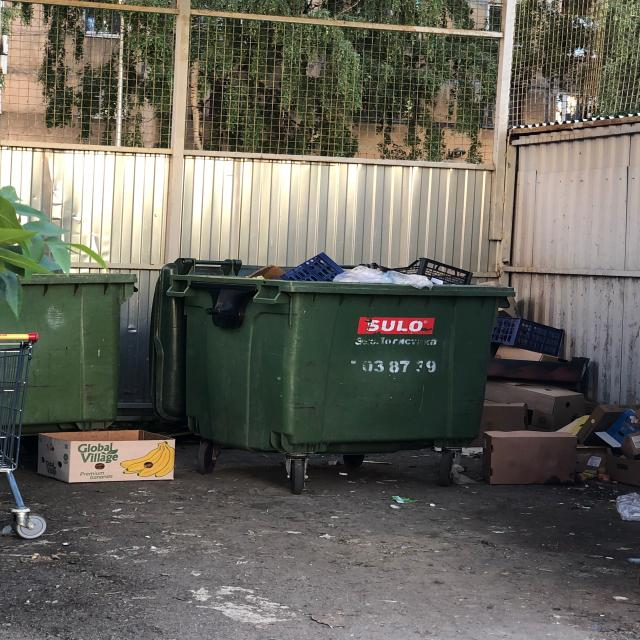bin: (170, 276, 502, 459), (0, 272, 139, 422)
plastic: (490, 313, 640, 483), (34, 429, 178, 488), (238, 251, 475, 283)
